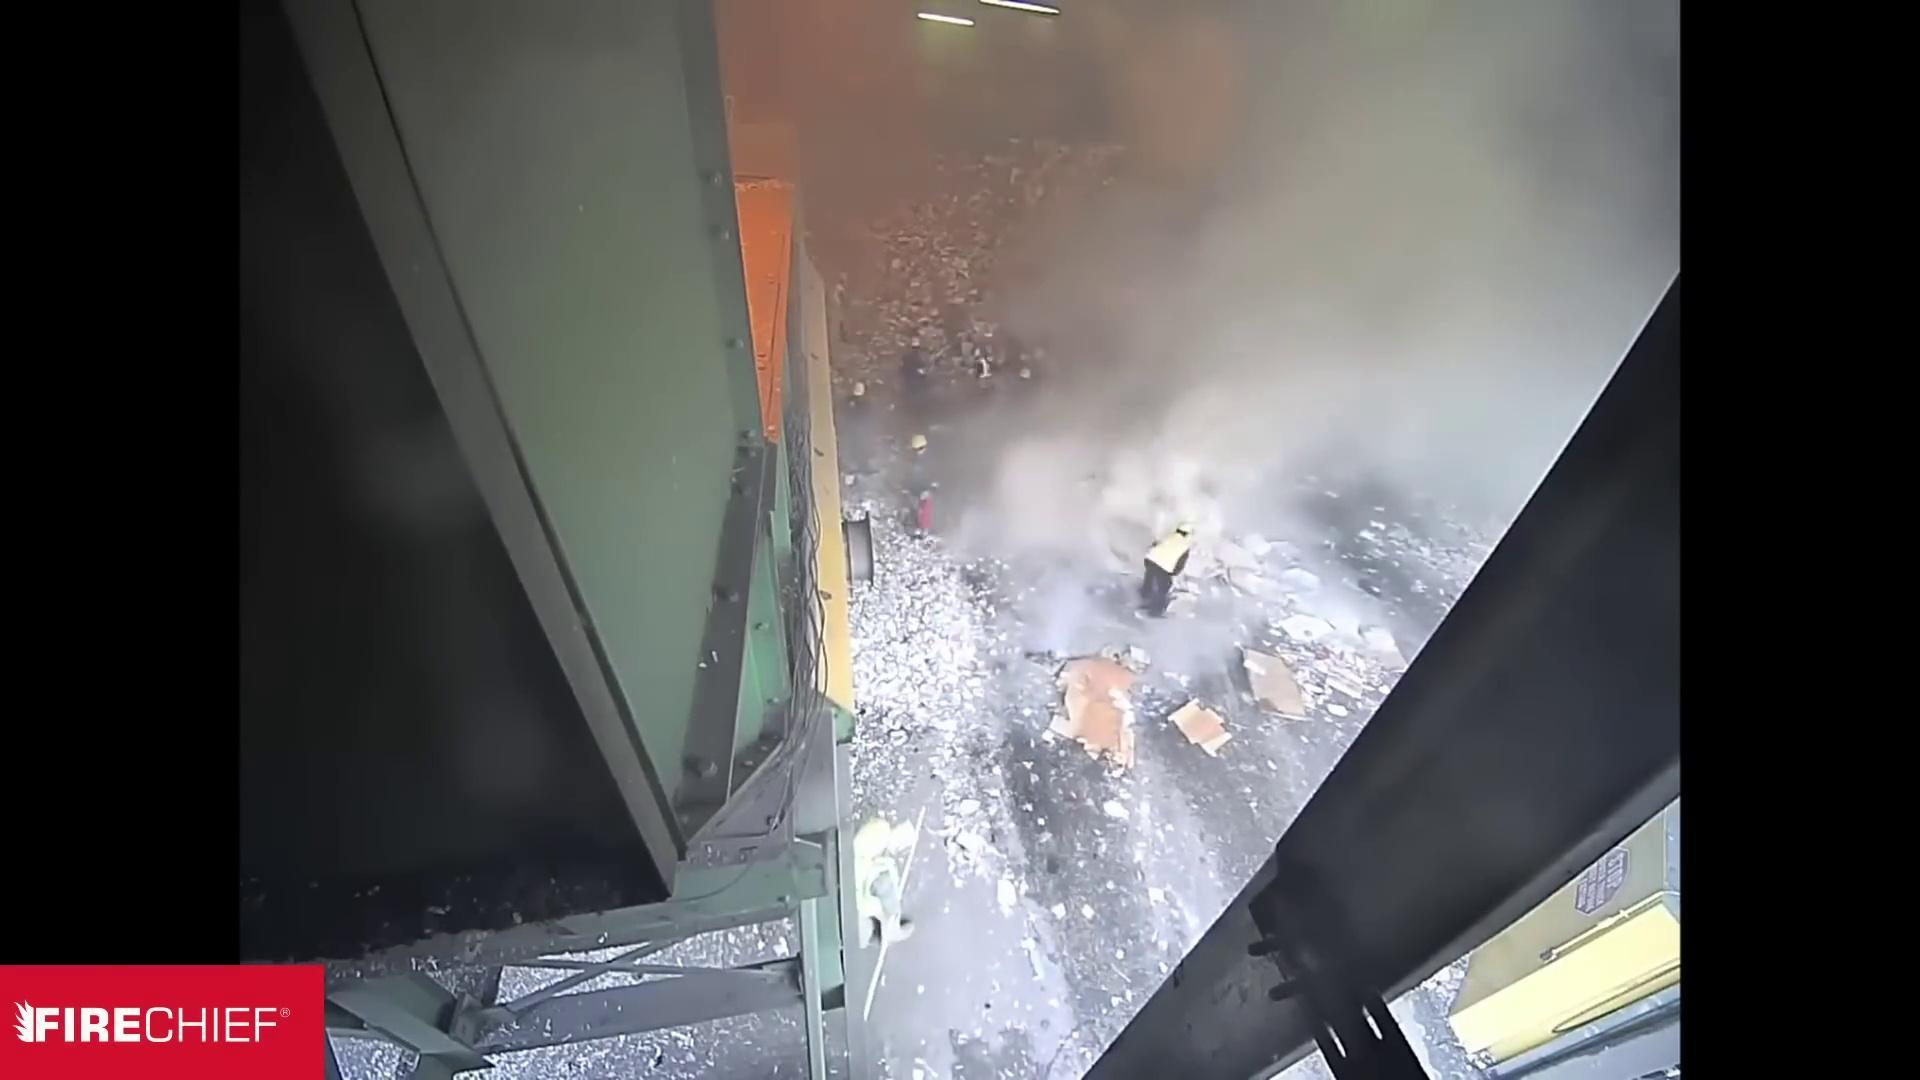smoke: (955, 223, 1476, 600)
